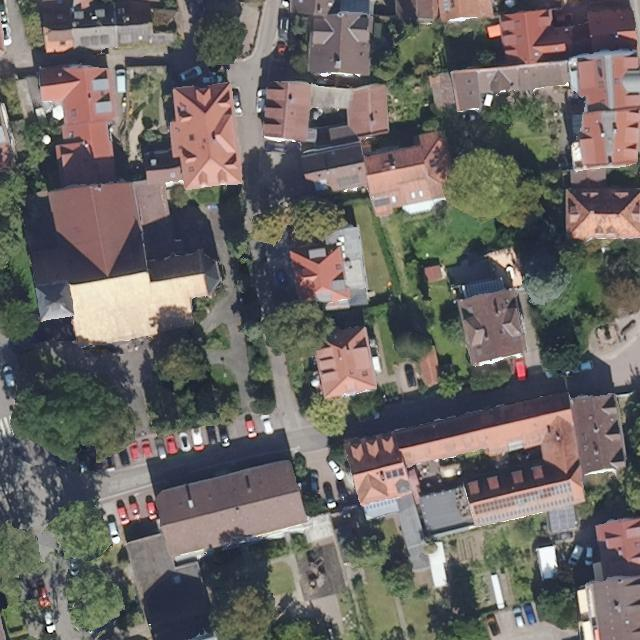PV: (472, 481, 574, 516), (385, 467, 405, 481)
